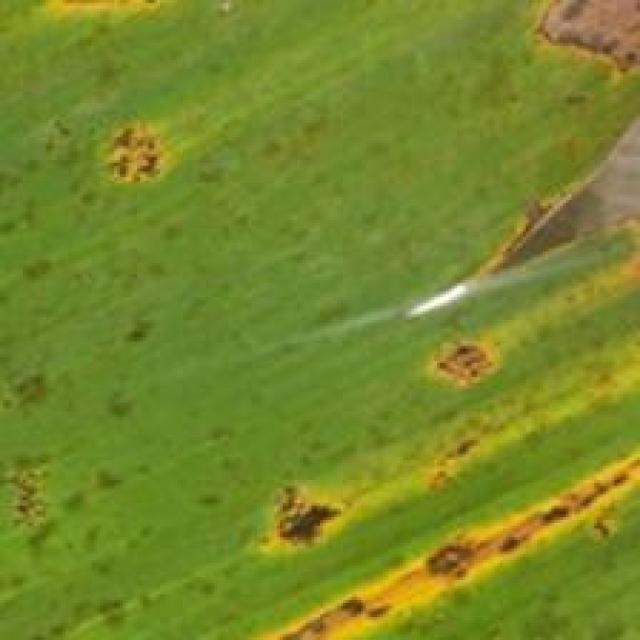Downey_mildrew: (210, 243, 640, 640), (3, 105, 289, 640), (65, 87, 298, 253), (467, 0, 640, 138), (8, 0, 263, 80)
